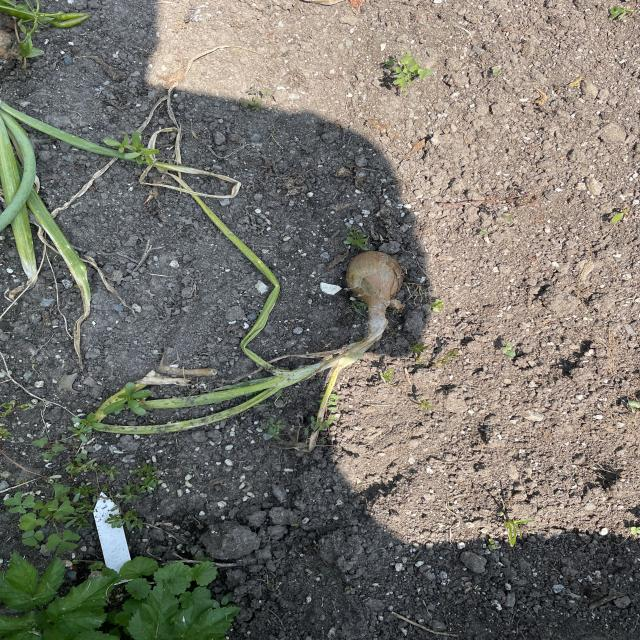Onion: (124, 248, 420, 452), (0, 91, 133, 298)
weed: (0, 543, 263, 640), (0, 452, 162, 546), (0, 0, 93, 66), (367, 48, 429, 98), (116, 126, 172, 165)
